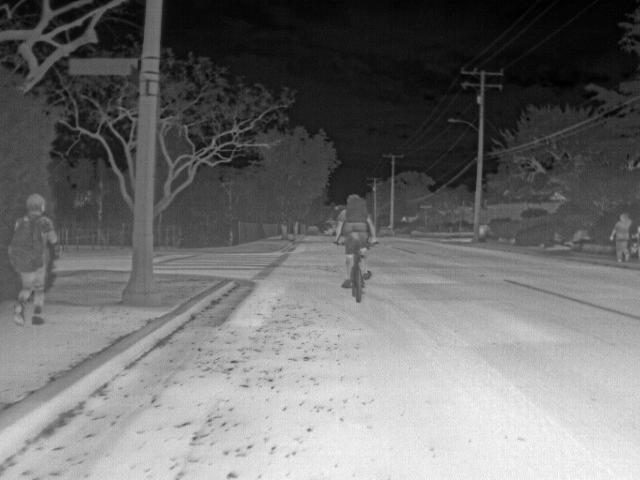car: (379, 225, 396, 238), (307, 225, 321, 237)
person: (7, 192, 62, 329), (335, 192, 377, 255), (610, 209, 634, 262), (623, 224, 640, 260)
